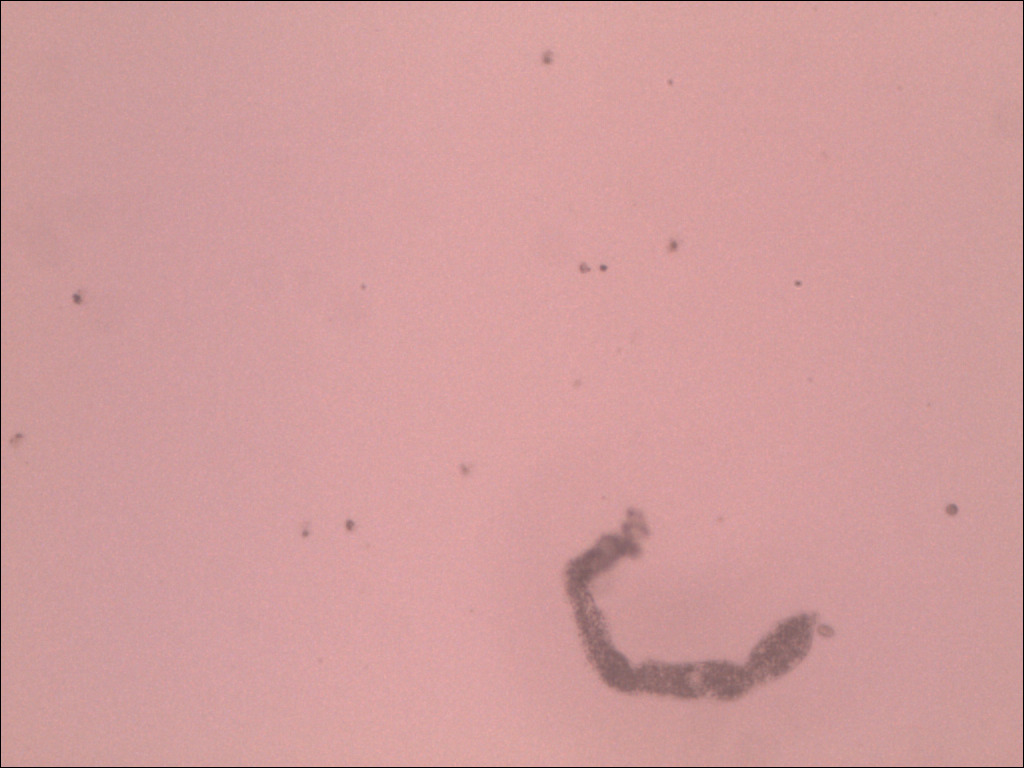amoeba: (556, 501, 861, 713)
